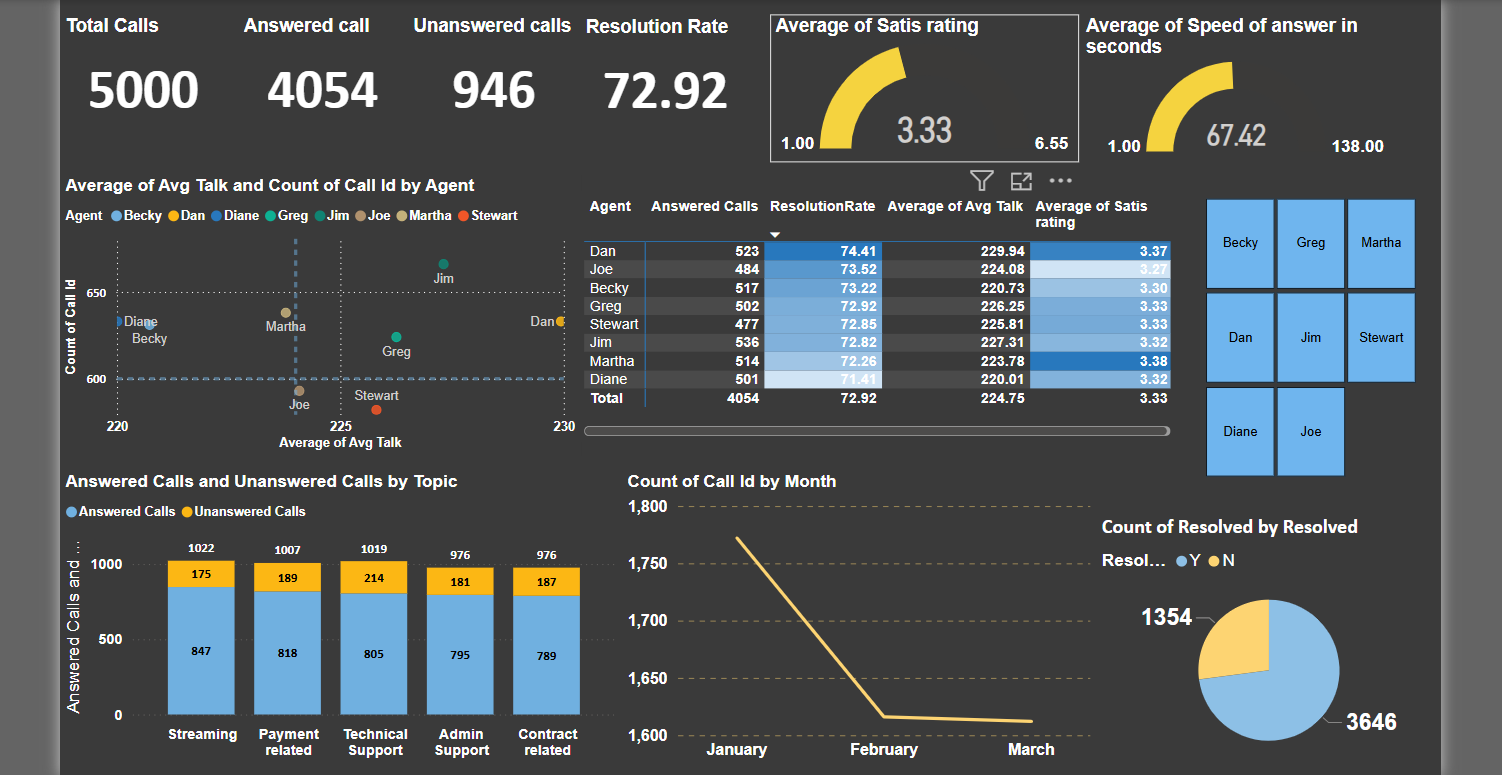

Layout of this report page (visuals, bound fields, positions):
{"tool":"powerbi","page":{"name":"Page 1","canvas":[1280,720],"ordinal":0},"visuals":[{"type":"card","title":"Answered call","fields":{"Values":["Sheet1.Answered Calls"]},"box":[165.6,13.4,156.7,108.9],"z":0},{"type":"card","title":"Unanswered calls","fields":{"Values":["Sheet1.Unanswered Calls"]},"box":[322.3,13.4,159.6,108.9],"z":1000},{"type":"pieChart","fields":{"Category":["Sheet1.Resolved"],"Y":["Sheet1.Resolved"]},"box":[959.9,475.5,320,236.3],"z":2000},{"type":"columnChart","fields":{"Y":["Sheet1.Answered Calls","Sheet1.Unanswered Calls"],"Category":["Sheet1.Topic"]},"box":[0,437.4,521,274.5],"z":3000},{"type":"gauge","fields":{"Y":["Sheet1.Speed of answer in seconds"]},"box":[945.7,13.3,306.3,137.2],"z":4000},{"type":"gauge","fields":{"Y":["Sheet1.Satisfaction rating"]},"box":[658,13.4,286.5,137.3],"z":5000},{"type":"slicer","fields":{"Values":["Sheet1.Agent"]},"box":[1036.2,177.6,243.6,271.5],"z":6000},{"type":"lineChart","fields":{"Y":["Sheet1.Call Id"],"Category":["Sheet1.Date.Variation.Date Hierarchy.Month","Sheet1.Date.Variation.Date Hierarchy.Day"]},"box":[521,437.4,438.8,274.5],"z":7000},{"type":"scatterChart","fields":{"Series":["Sheet1.Agent"],"Y":["Sheet1.Call Id"],"X":["Sheet1.Total Avg talk duration in seconds"]},"box":[0,162.9,482.9,259.8],"z":8000},{"type":"card","title":"Resolution Rate","fields":{"Values":["Sheet1.ResolutionRate"]},"box":[481.9,14.9,158.2,108.9],"z":9000},{"type":"card","title":"Total Calls ","fields":{"Values":["Sheet1.Answered (Y/N)"]},"box":[0,12.9,154.3,110],"z":10000},{"type":"pivotTable","fields":{"Rows":["Sheet1.Agent"],"Values":["Sheet1.Answered Calls","Sheet1.ResolutionRate","Sheet1.Avg Talk","Sheet1.Satis rating"]},"box":[481.4,177.6,553.3,231.9],"z":11000}]}

Visuals, with their boxes on the page's 1280x720 design canvas (x1, y1, x2, y2). These are canvas units, not pixel positions in the 1502x775 screenshot, which may show the page scaled, cropped or inside an application window:
"Answered call" card: Rect(166, 13, 322, 122)
"Unanswered calls" card: Rect(322, 13, 482, 122)
pieChart - Sheet1.Resolved x Sheet1.Resolved: Rect(960, 476, 1280, 712)
columnChart - Sheet1.Answered Calls x Sheet1.Unanswered Calls: Rect(0, 437, 521, 712)
gauge - Sheet1.Speed of answer in seconds: Rect(946, 13, 1252, 150)
gauge - Sheet1.Satisfaction rating: Rect(658, 13, 944, 151)
slicer - Sheet1.Agent: Rect(1036, 178, 1280, 449)
lineChart - Sheet1.Call Id x Sheet1.Date.Variation.Date Hierarchy.Month: Rect(521, 437, 960, 712)
scatterChart - Sheet1.Agent x Sheet1.Call Id: Rect(0, 163, 483, 423)
"Resolution Rate" card: Rect(482, 15, 640, 124)
"Total Calls " card: Rect(0, 13, 154, 123)
pivotTable - Sheet1.Agent x Sheet1.Answered Calls: Rect(481, 178, 1035, 410)
